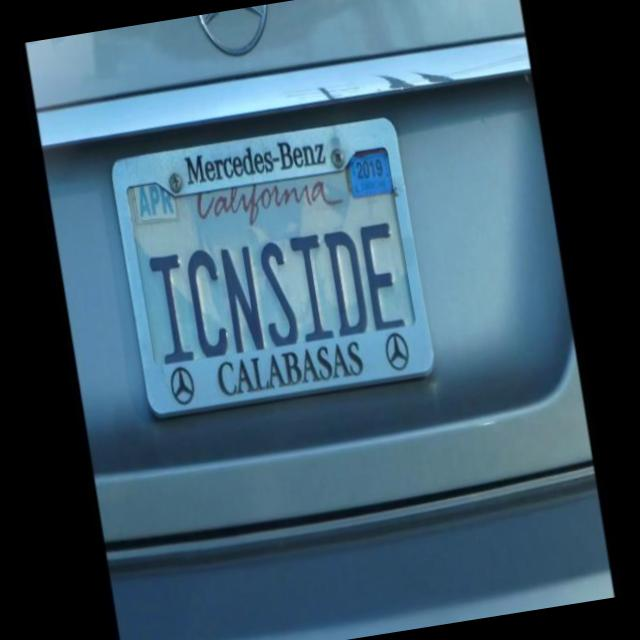LicensePlate: (96, 81, 472, 448)
